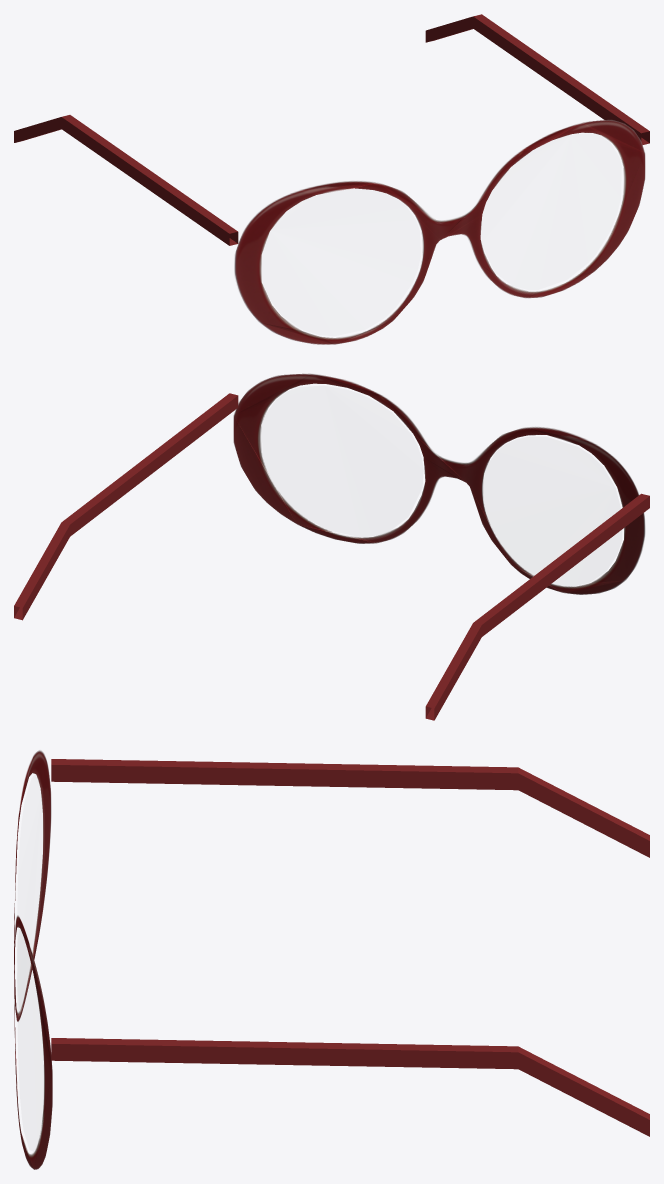
The model's file is leon-max-4110_red.glb.
The picture shows the model from 3 angles, top to bottom: view 1: azimuth 30°, elevation 25°; view 2: azimuth 150°, elevation 25°; view 3: azimuth 270°, elevation 25°; orthographic projection. The views are drawn at different scales.
Parts seen in each view (by area): view 1: frame_front, temple_viewer_left, temple_viewer_right; view 2: frame_front, temple_viewer_right, temple_viewer_left; view 3: temple_viewer_left, temple_viewer_right, frame_front.
Part boxes in pixels (left/top/right/bottom): frame_front: left=234, top=120, right=645, bottom=344; temple_viewer_left: left=14, top=115, right=238, bottom=245; temple_viewer_right: left=425, top=14, right=649, bottom=145; frame_front: left=233, top=373, right=645, bottom=594; temple_viewer_right: left=14, top=393, right=238, bottom=620; temple_viewer_left: left=425, top=493, right=649, bottom=720; temple_viewer_left: left=51, top=759, right=649, bottom=857; temple_viewer_right: left=51, top=1038, right=649, bottom=1136; frame_front: left=14, top=750, right=52, bottom=1169.
Size of the model in its own units: 0.1442 by 0.0539 by 0.136.
3 materials, 2 textured.
